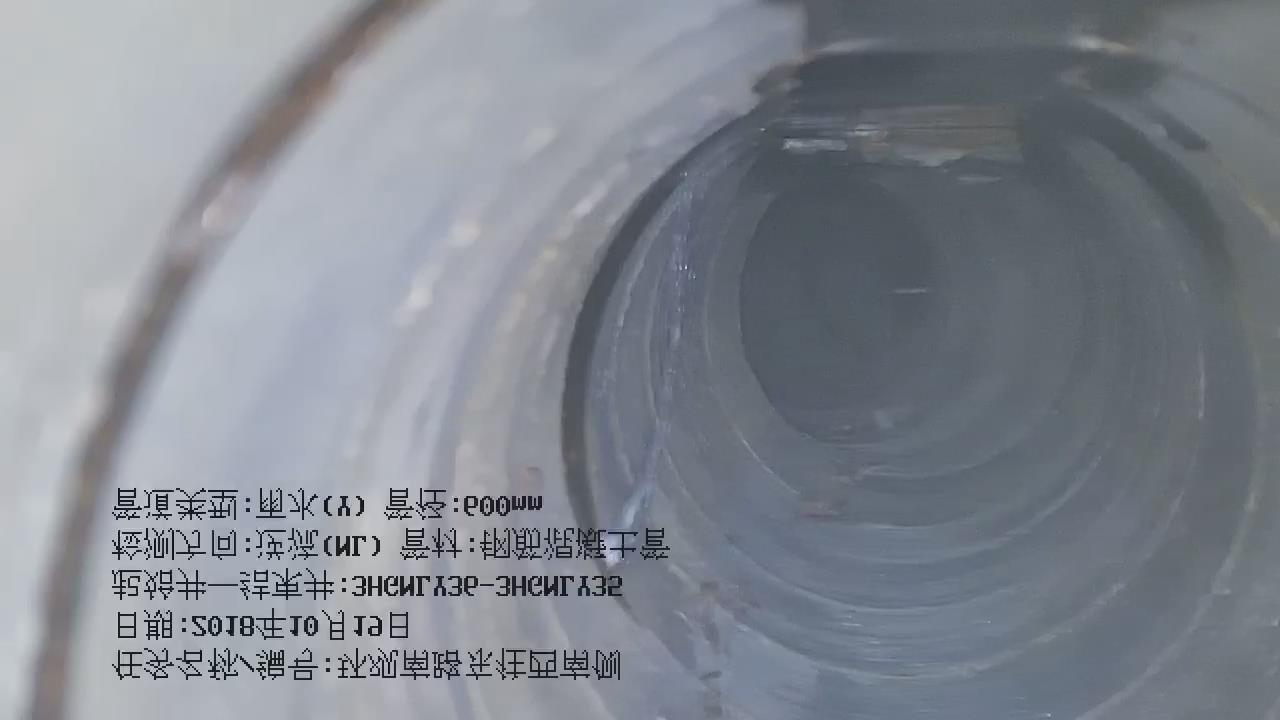SL: (598, 155, 729, 568)
